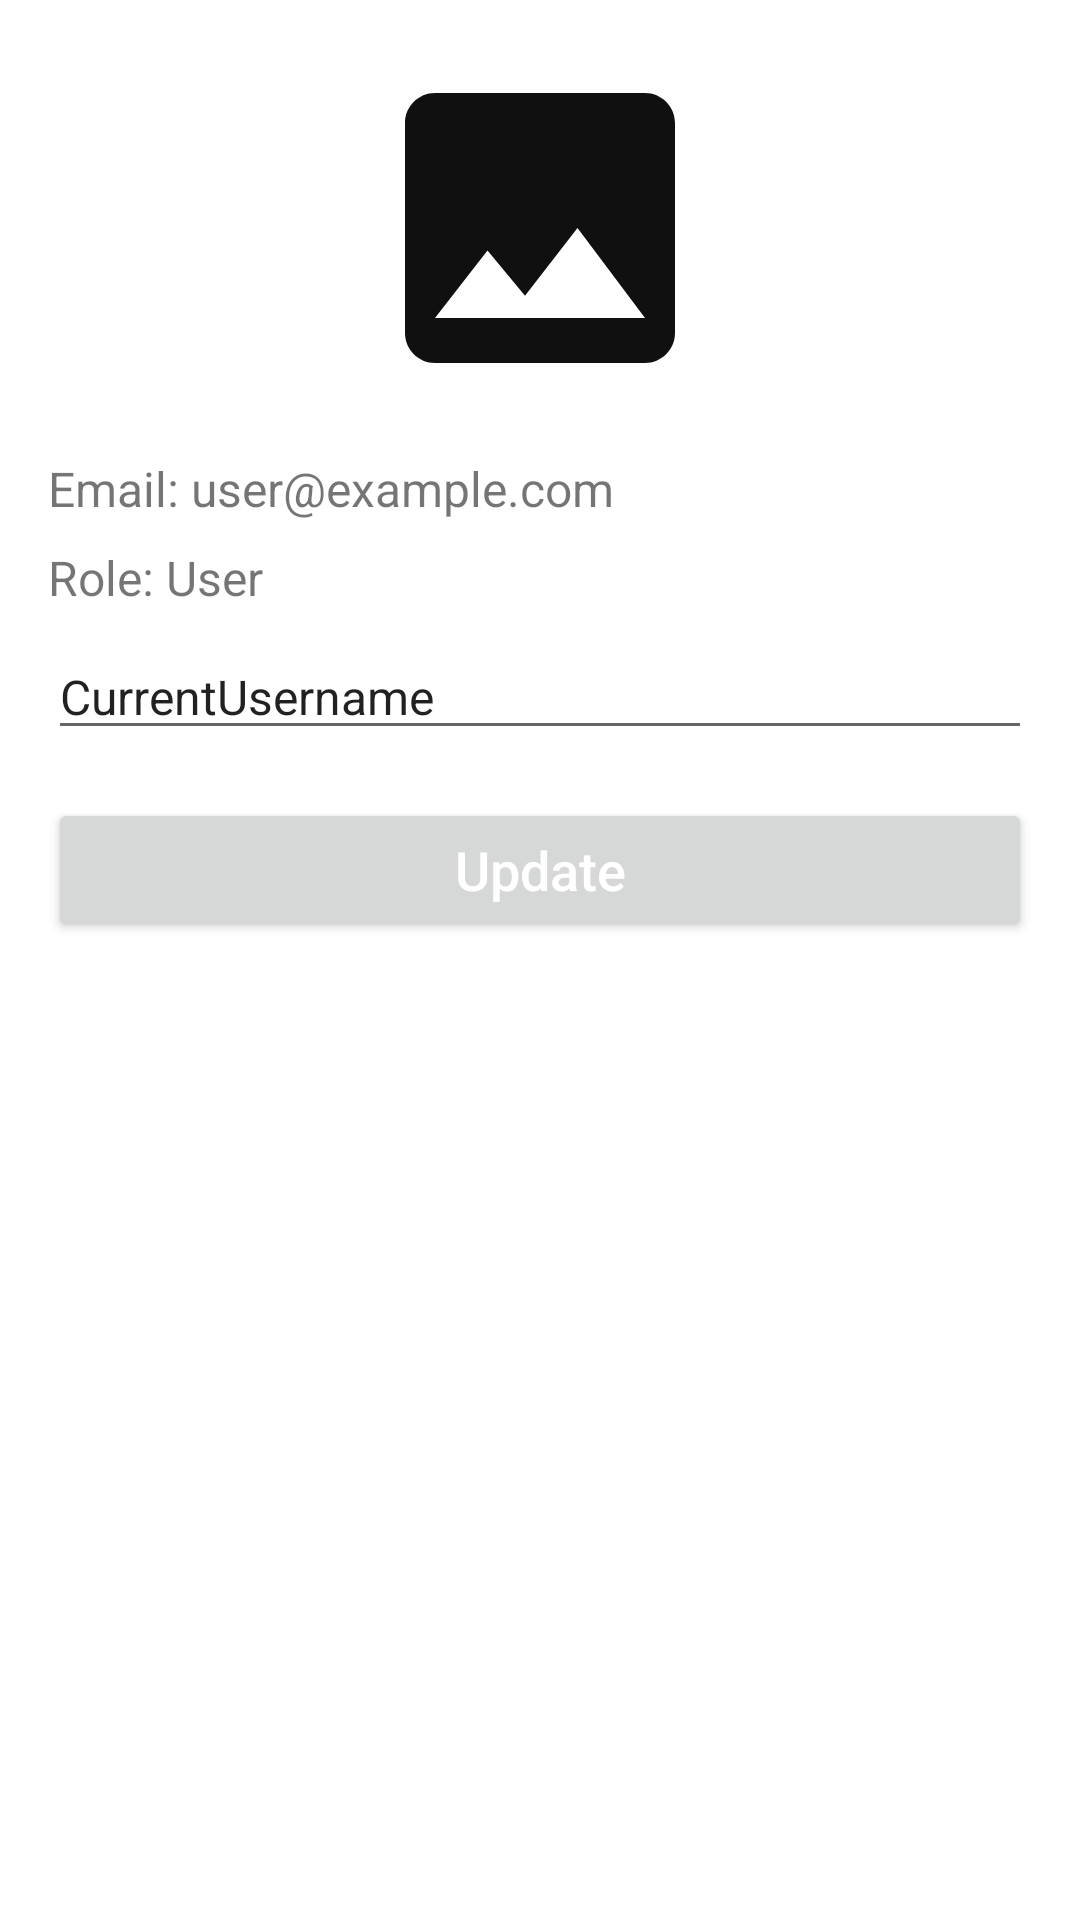

Locate icon controls on the screen. Image size 1080x1920, boxes as BBox(x1, y1, x2, y2).
Change Profile Image: BBox(405, 93, 675, 363)
